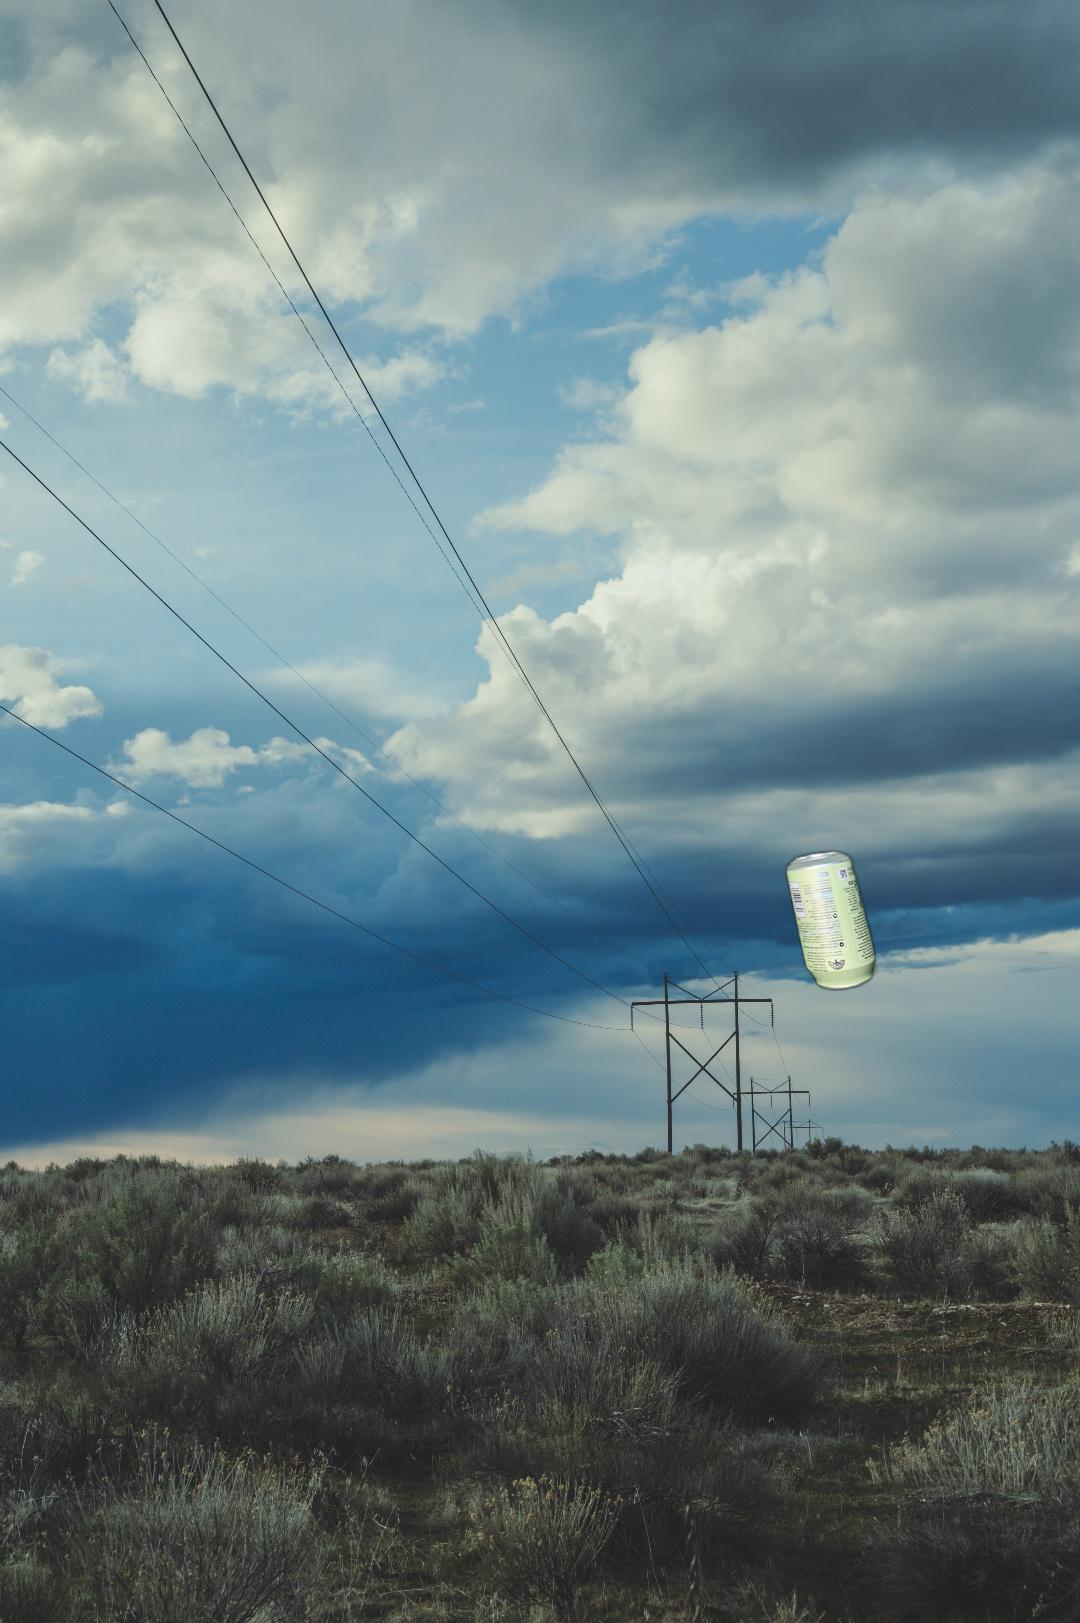metal-cans: (439, 369, 879, 996)
